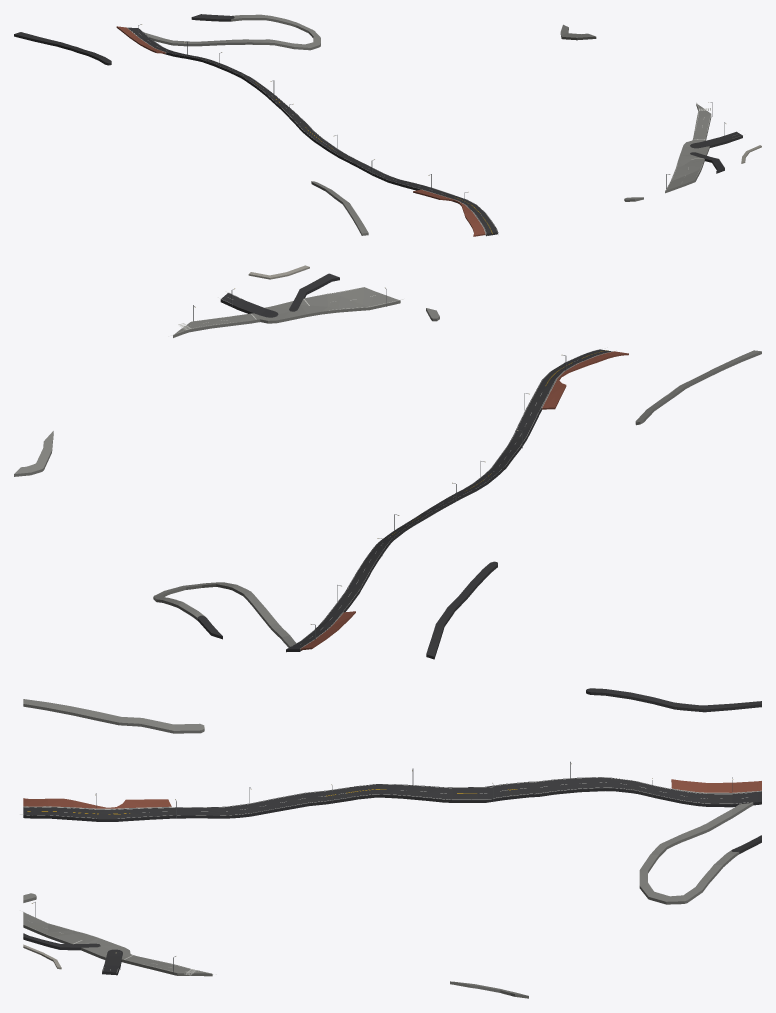
3 views of the same model, one above another, from view 1: azimuth 30°, elevation 25°; view 2: azimuth 150°, elevation 25°; view 3: azimuth 270°, elevation 25° (orthographic). The views are drawn at different scales.
Size of the model in its own units: 247 by 31.77 by 295.
